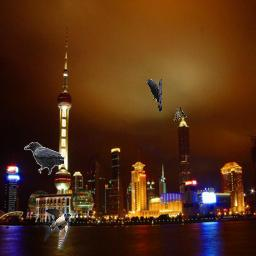Crow: (24, 142, 64, 175), (146, 79, 162, 112)
Sparrow: (173, 107, 187, 121)
Swallow: (36, 209, 71, 249)
